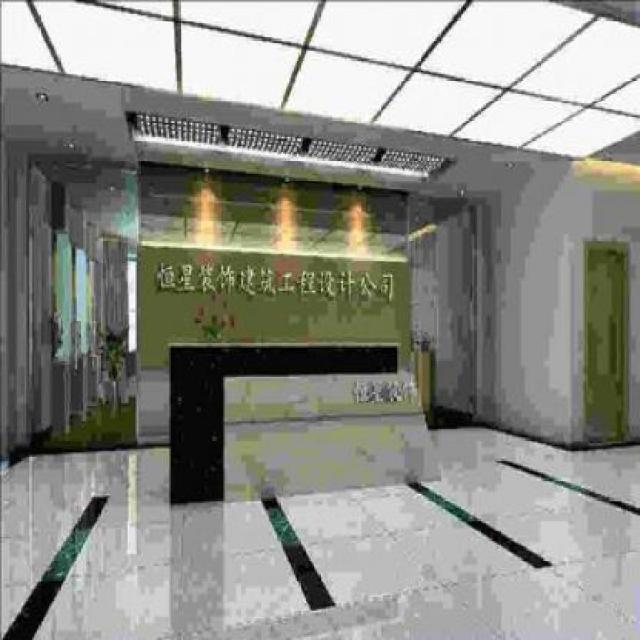frontdesk: (156, 331, 458, 515)
